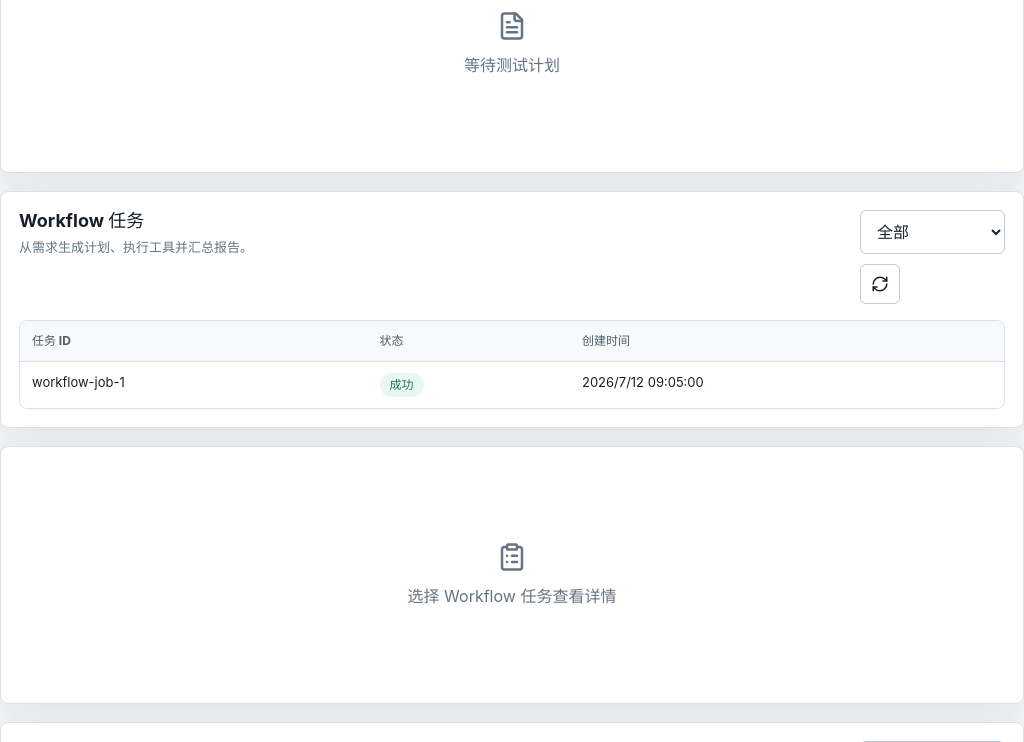
panel behavior › loads test agent workflow jobs and hydrates plan and report results
(page scrolled)
Expected: the text "workflow-job-1" is shown, [20,362,368,408]
Click the text "workflow-job-1" at (78, 382), box [20,362,1004,408]
(page scrolled)
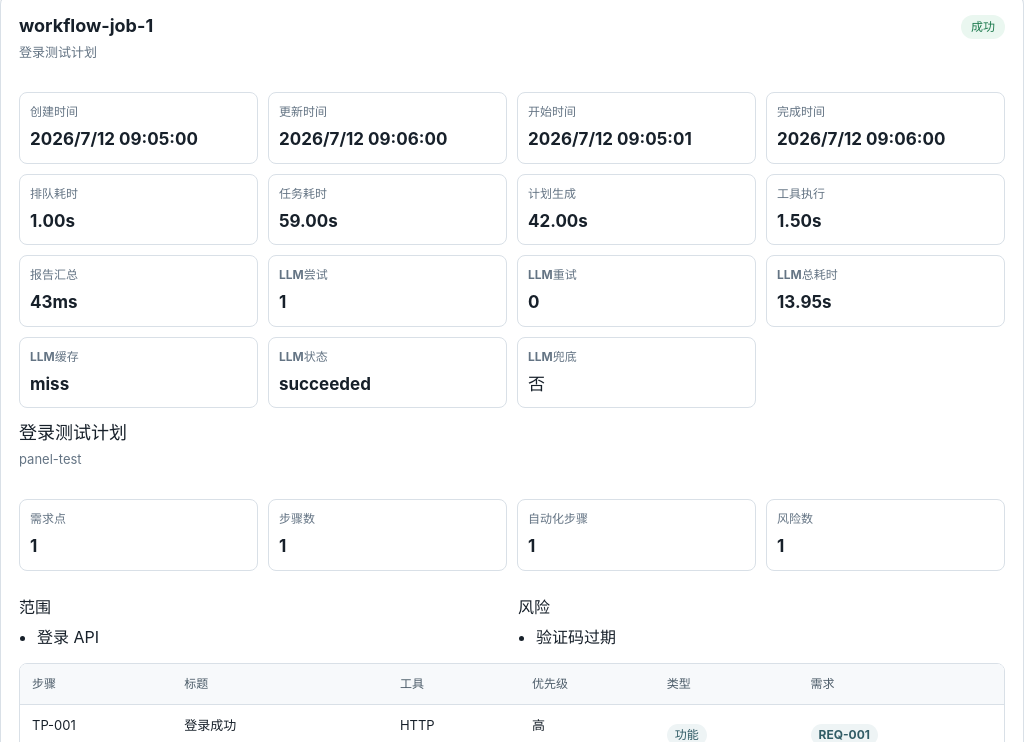
Result: the text "42.00s" is shown at [528,210,588,230]
Result: the text "1.50s" is shown at [777,210,822,230]
Result: the text "43ms" is shown at [30,292,78,312]
